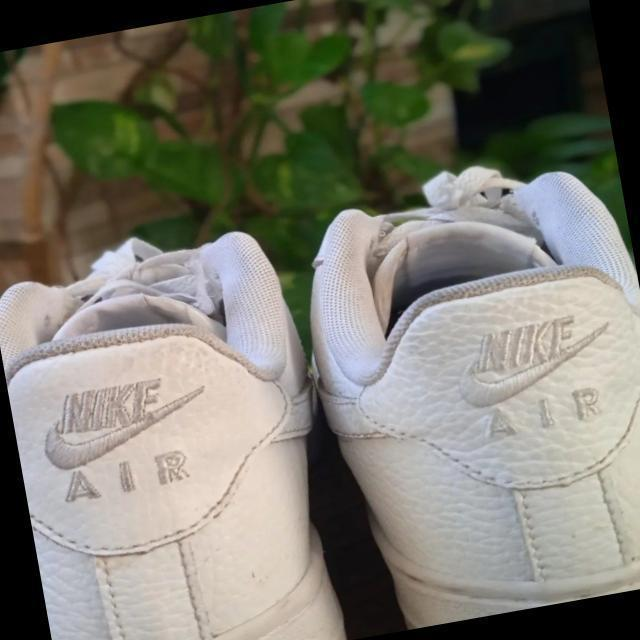nike fake air force: (287, 161, 640, 638), (0, 220, 358, 640)
